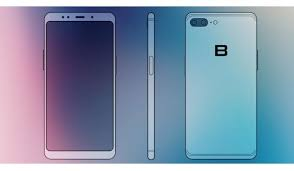bphone: (182, 10, 262, 161)
